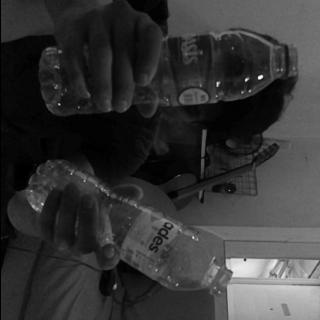plastic_bottles: (23, 163, 231, 295), (34, 29, 298, 119)
